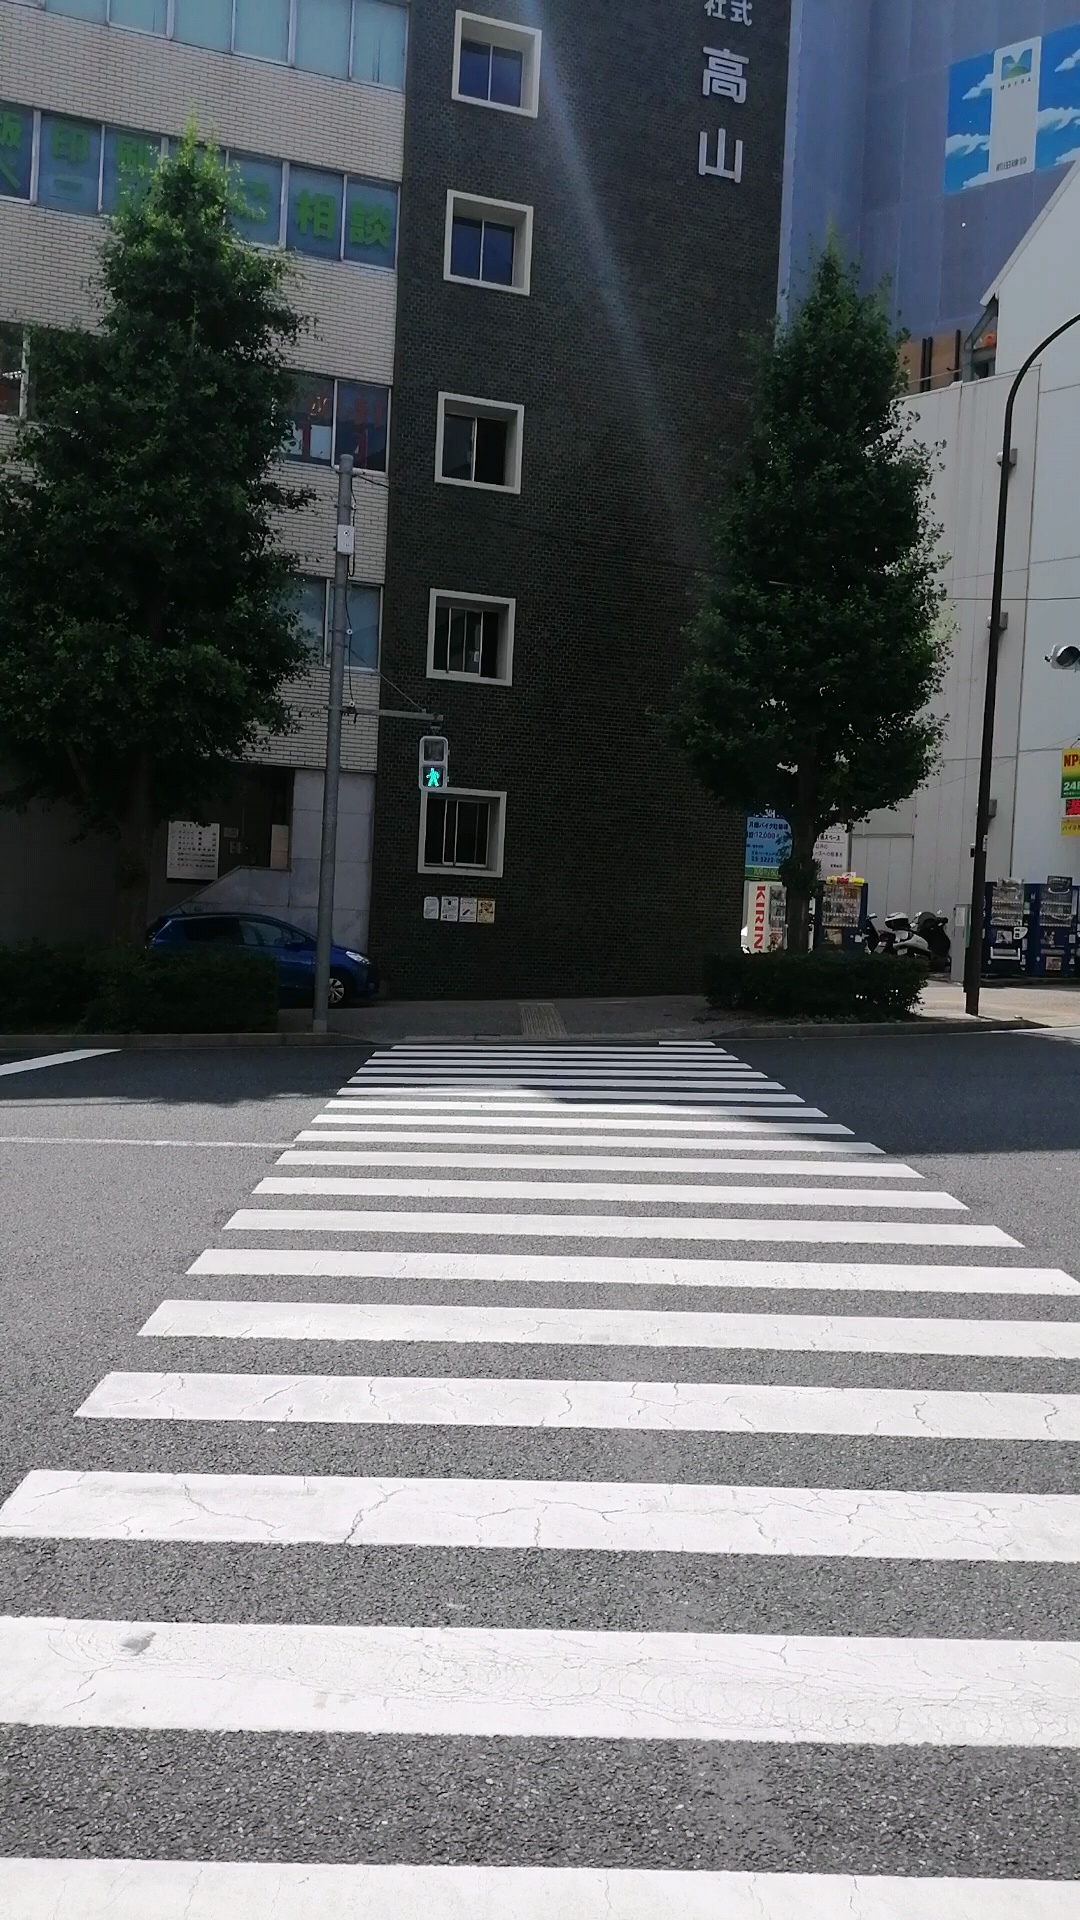green: (419, 733, 448, 795)
